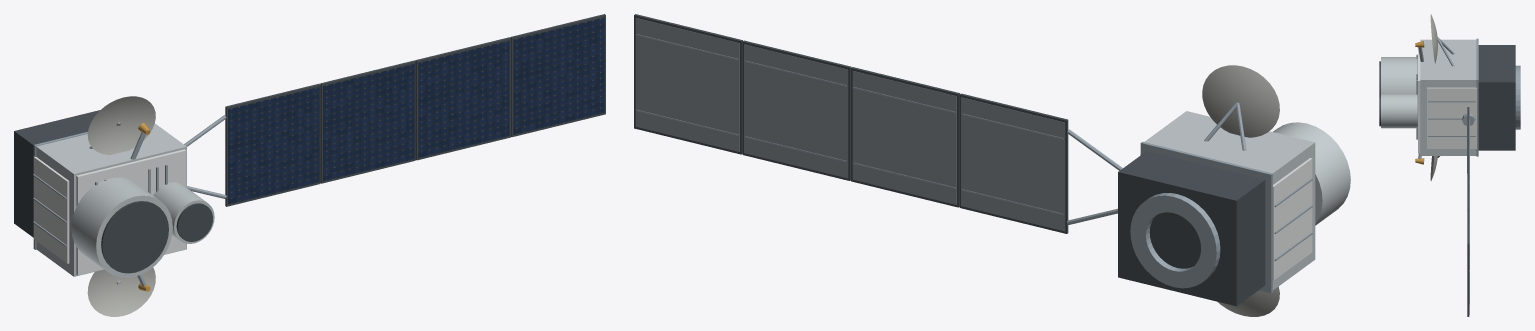
The model's file is elektro-l.glb.
The picture shows the model from 3 angles, left to right: view 1: azimuth 30°, elevation 25°; view 2: azimuth 150°, elevation 25°; view 3: azimuth 270°, elevation 25°; orthographic projection. The views are drawn at different scales.
Visible parts, largest first — view 1: Solar cell panel (×4), Optical instrument housing (×2), Communications reflector (×2), Telescope aperture (×2), Solar panel frame (×4), Payload module, Service module, Earth-facing deck, Radiator face; view 2: Rear array substrate (×4), Service module, Payload module, Solar panel frame (×4), Communications reflector (×2), Launch adapter ring, Radiator face, Optical instrument housing, Module interface; view 3: Service module, Payload module, Radiator face, Optical instrument housing (×2), Launch adapter ring, Communications reflector (×2), Solar panel frame, Earth-facing deck, Module interface, Array drive.
Part boxes in pixels (bbox=[...]): Solar cell panel (×4): bbox=[228, 17, 604, 204]; Optical instrument housing (×2): bbox=[71, 177, 214, 277]; Communications reflector (×2): bbox=[87, 96, 155, 316]; Telescope aperture (×2): bbox=[101, 201, 212, 273]; Solar panel frame (×4): bbox=[225, 14, 605, 206]; Payload module: bbox=[36, 123, 186, 276]; Service module: bbox=[14, 110, 100, 237]; Earth-facing deck: bbox=[76, 149, 186, 275]; Radiator face: bbox=[33, 156, 69, 263]; Rear array substrate (×4): bbox=[635, 18, 1065, 231]; Service module: bbox=[1118, 151, 1265, 306]; Payload module: bbox=[1144, 111, 1315, 290]; Solar panel frame (×4): bbox=[634, 14, 1068, 233]; Communications reflector (×2): bbox=[1202, 65, 1279, 316]; Launch adapter ring: bbox=[1130, 193, 1220, 288]; Radiator face: bbox=[1272, 158, 1312, 280]; Optical instrument housing: bbox=[1273, 122, 1350, 225]; Module interface: bbox=[1140, 141, 1272, 293]; Service module: bbox=[1478, 45, 1515, 150]; Payload module: bbox=[1420, 39, 1476, 155]; Radiator face: bbox=[1427, 87, 1476, 148]; Optical instrument housing (×2): bbox=[1381, 57, 1417, 128]; Launch adapter ring: bbox=[1515, 65, 1520, 129]; Communications reflector (×2): bbox=[1430, 14, 1437, 180]; Solar panel frame: bbox=[1467, 209, 1469, 316]; Earth-facing deck: bbox=[1418, 42, 1420, 153]; Module interface: bbox=[1476, 38, 1478, 156]; Array drive: bbox=[1462, 114, 1474, 125].
Bounding box in the file's own units: 10.07 × 3.7 × 2.94.
8 materials, 1 textured.
